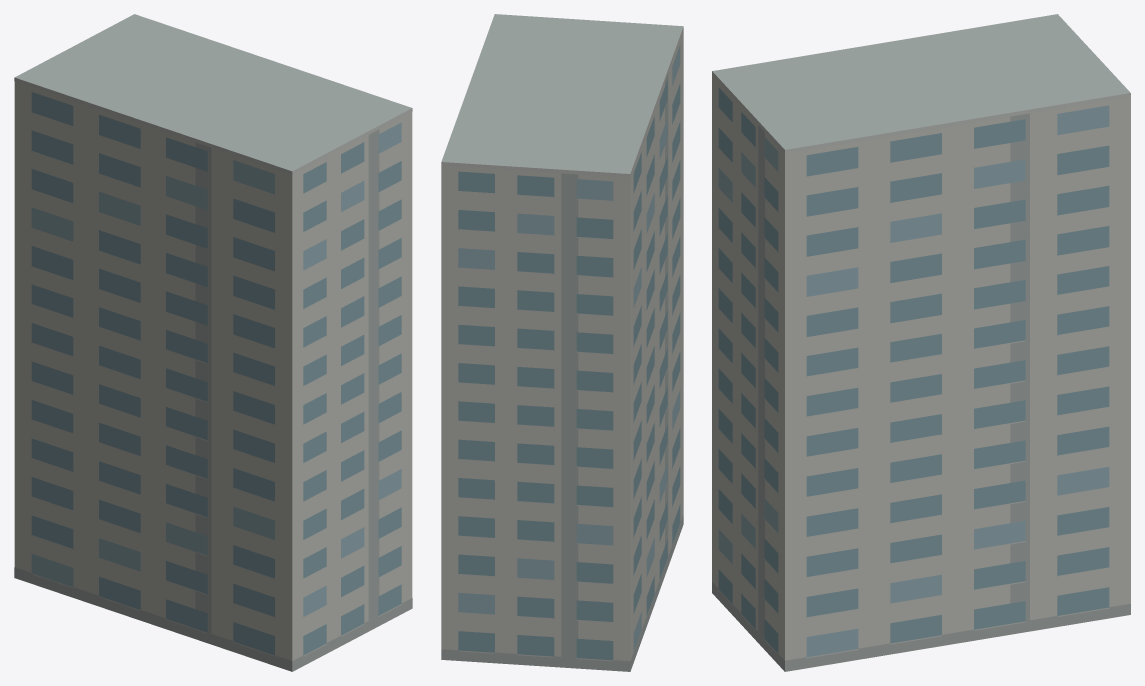
The model's file is residential-a8998dd8-be6e-4e1d-b6a9-11ec8d388502.glb.
3 views of the same model, side by side, from view 1: azimuth 30°, elevation 25°; view 2: azimuth 150°, elevation 25°; view 3: azimuth 270°, elevation 25° (orthographic). The views are drawn at different scales.
Visible parts, largest first — view 1: residential-a8998dd8-be6e-4e1d-b6a9-11ec8d388502.tmp; view 2: residential-a8998dd8-be6e-4e1d-b6a9-11ec8d388502.tmp; view 3: residential-a8998dd8-be6e-4e1d-b6a9-11ec8d388502.tmp.
Part boxes in pixels (box(x1,y1,x2,y2)): residential-a8998dd8-be6e-4e1d-b6a9-11ec8d388502.tmp: box(14, 14, 412, 671); residential-a8998dd8-be6e-4e1d-b6a9-11ec8d388502.tmp: box(441, 14, 683, 671); residential-a8998dd8-be6e-4e1d-b6a9-11ec8d388502.tmp: box(712, 14, 1130, 671).
Size of the model in its own units: 18.44 by 33 by 24.
